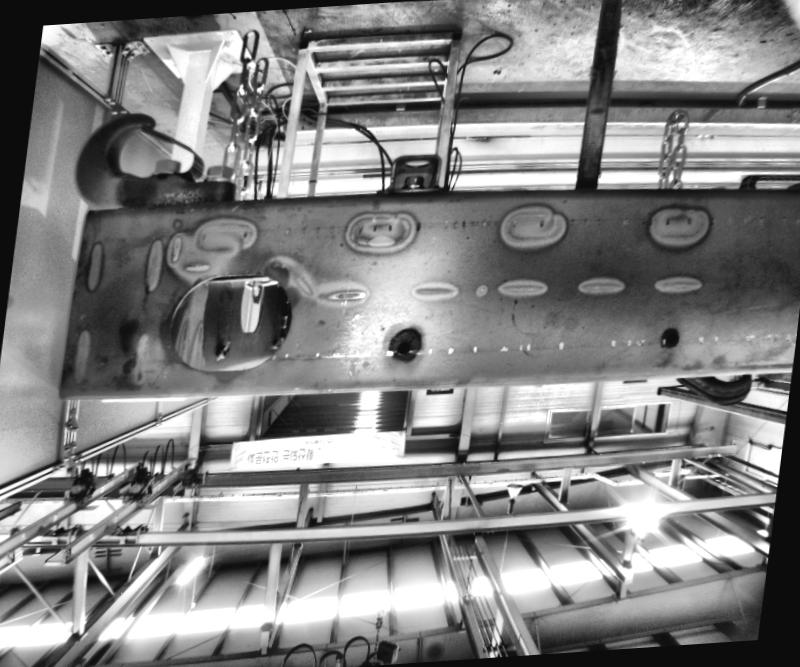bolt: (398, 171, 425, 189)
bracket: (366, 139, 461, 193)
hole: (152, 268, 298, 378), (393, 337, 413, 356), (662, 328, 679, 346)
